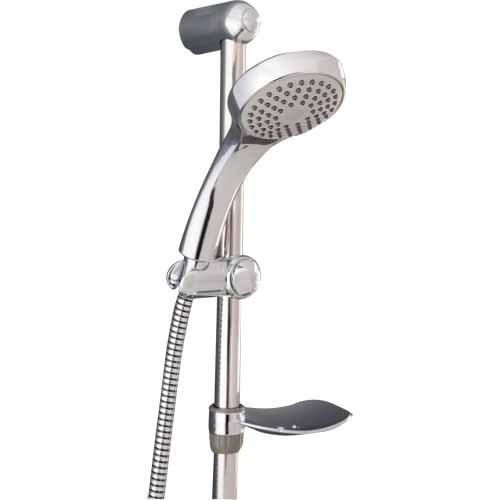Ducha: (129, 0, 348, 499)
